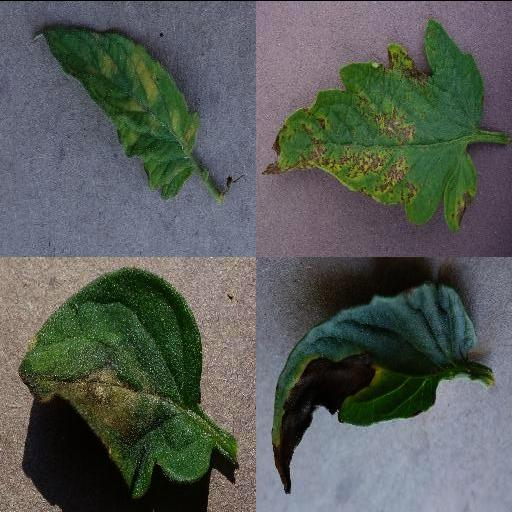Early Blight: (270, 277, 478, 494)
Late Blight: (13, 267, 213, 499)
Leaf Mold: (38, 26, 200, 197)
Septoria: (260, 15, 484, 230)
